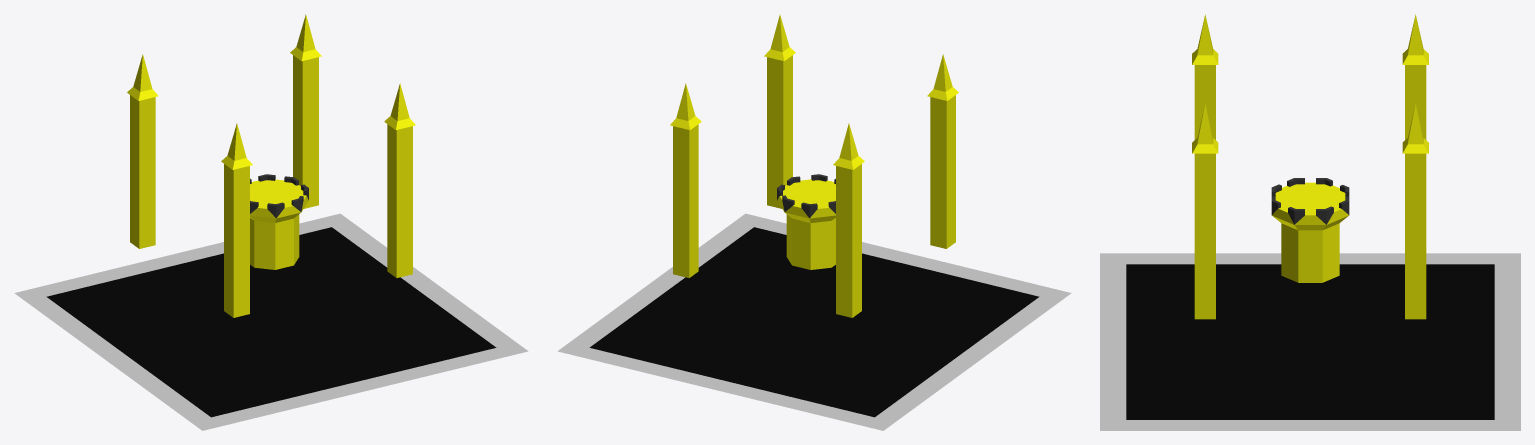
The model's file is wing_cap_segment7.0x07A18.collision.obj.
3 renders of one model, left to right at view 1: azimuth 30°, elevation 25°; view 2: azimuth 150°, elevation 25°; view 3: azimuth 270°, elevation 25°, orthographic. The views are drawn at different scales.
Visible parts, largest first — view 1: wing_cap_segment7_07A18_deathfloor, wing_cap_segment7_07A18_normal, wing_cap_segment7_07A18_32, wing_cap_segment7_07A18_fence; view 2: wing_cap_segment7_07A18_deathfloor, wing_cap_segment7_07A18_normal, wing_cap_segment7_07A18_32, wing_cap_segment7_07A18_fence; view 3: wing_cap_segment7_07A18_deathfloor, wing_cap_segment7_07A18_normal, wing_cap_segment7_07A18_32, wing_cap_segment7_07A18_fence.
Boxes of the visible parts, <box> form: wing_cap_segment7_07A18_deathfloor: <box>46,227,496,417</box>; wing_cap_segment7_07A18_normal: <box>127,14,415,317</box>; wing_cap_segment7_07A18_32: <box>14,213,528,430</box>; wing_cap_segment7_07A18_fence: <box>250,174,308,218</box>; wing_cap_segment7_07A18_deathfloor: <box>589,227,1039,417</box>; wing_cap_segment7_07A18_normal: <box>670,14,958,317</box>; wing_cap_segment7_07A18_32: <box>557,213,1071,430</box>; wing_cap_segment7_07A18_fence: <box>777,174,835,218</box>; wing_cap_segment7_07A18_deathfloor: <box>1126,264,1494,419</box>; wing_cap_segment7_07A18_normal: <box>1192,14,1428,319</box>; wing_cap_segment7_07A18_32: <box>1100,253,1520,430</box>; wing_cap_segment7_07A18_fence: <box>1271,178,1349,224</box>.
Size of the model in its own units: 16 by 11.9 by 16.
